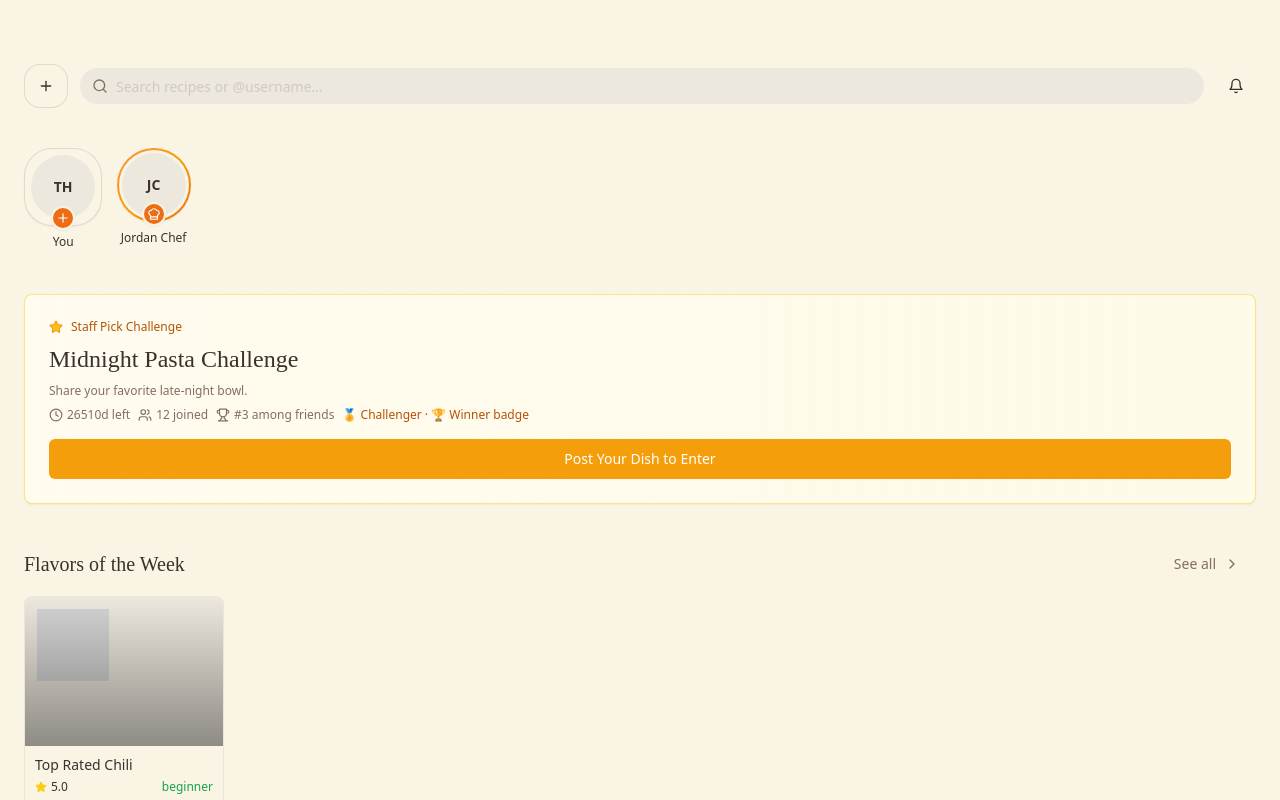
Test: HomeReturningPage › opens the post-dish dialog and fires a success toast when submitted
Later steps or results of the test are not shown.
What coordinates should you click on to do the following:
click the button "Post Your Dish to Enter"
I would click on:
 (640, 459)
Its box is 49,439 -> 1231,479.
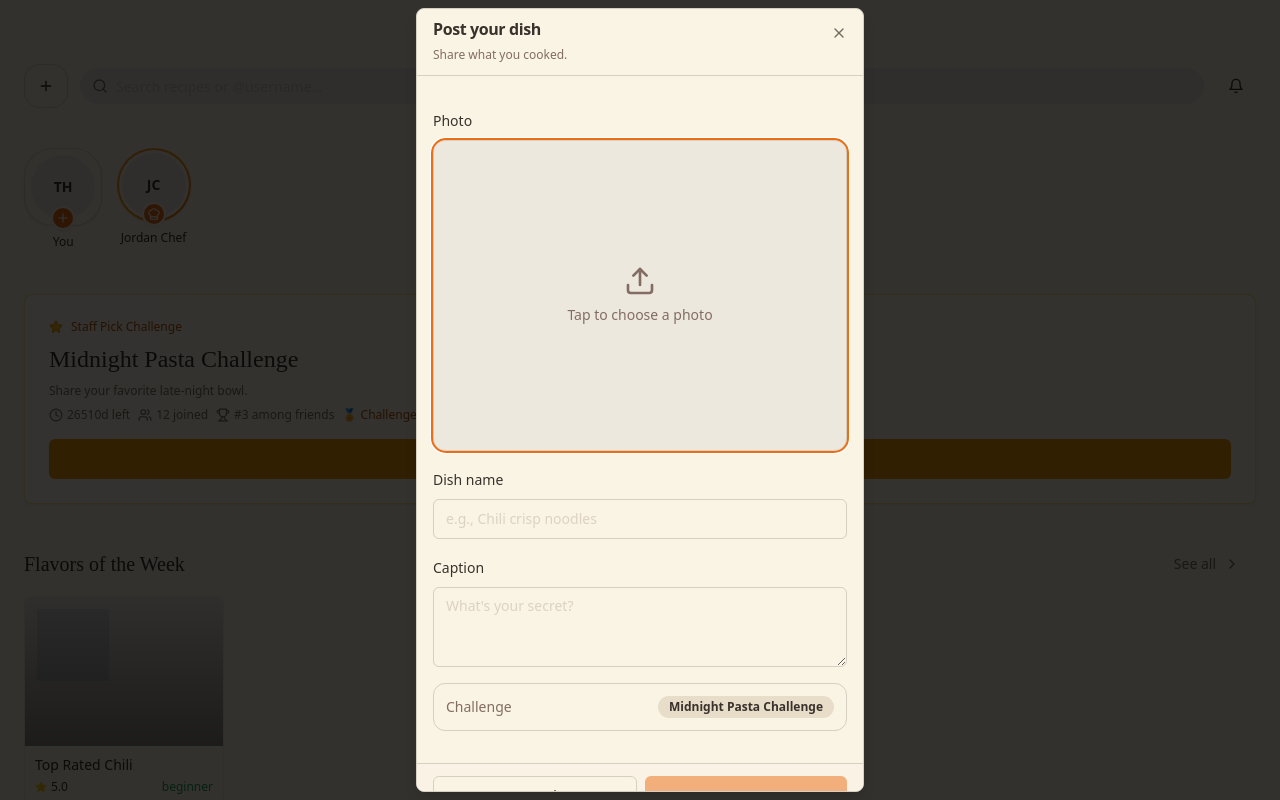
Now the heading "Post your dish" is shown, box 433,18 -> 541,40
Now the element showing "Photo Tap to choose a photo" is shown, box 433,108 -> 847,450
